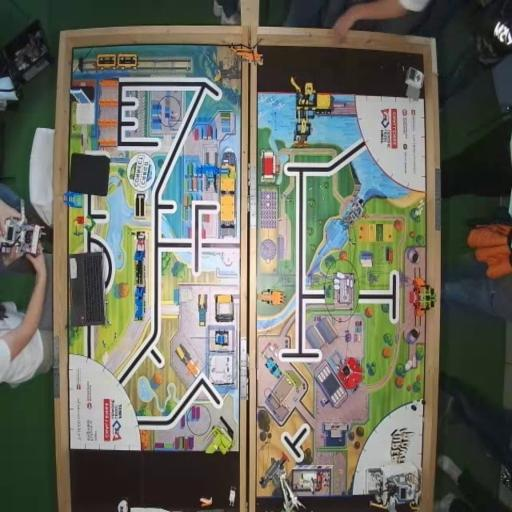lego_robot: (364, 466, 420, 512)
